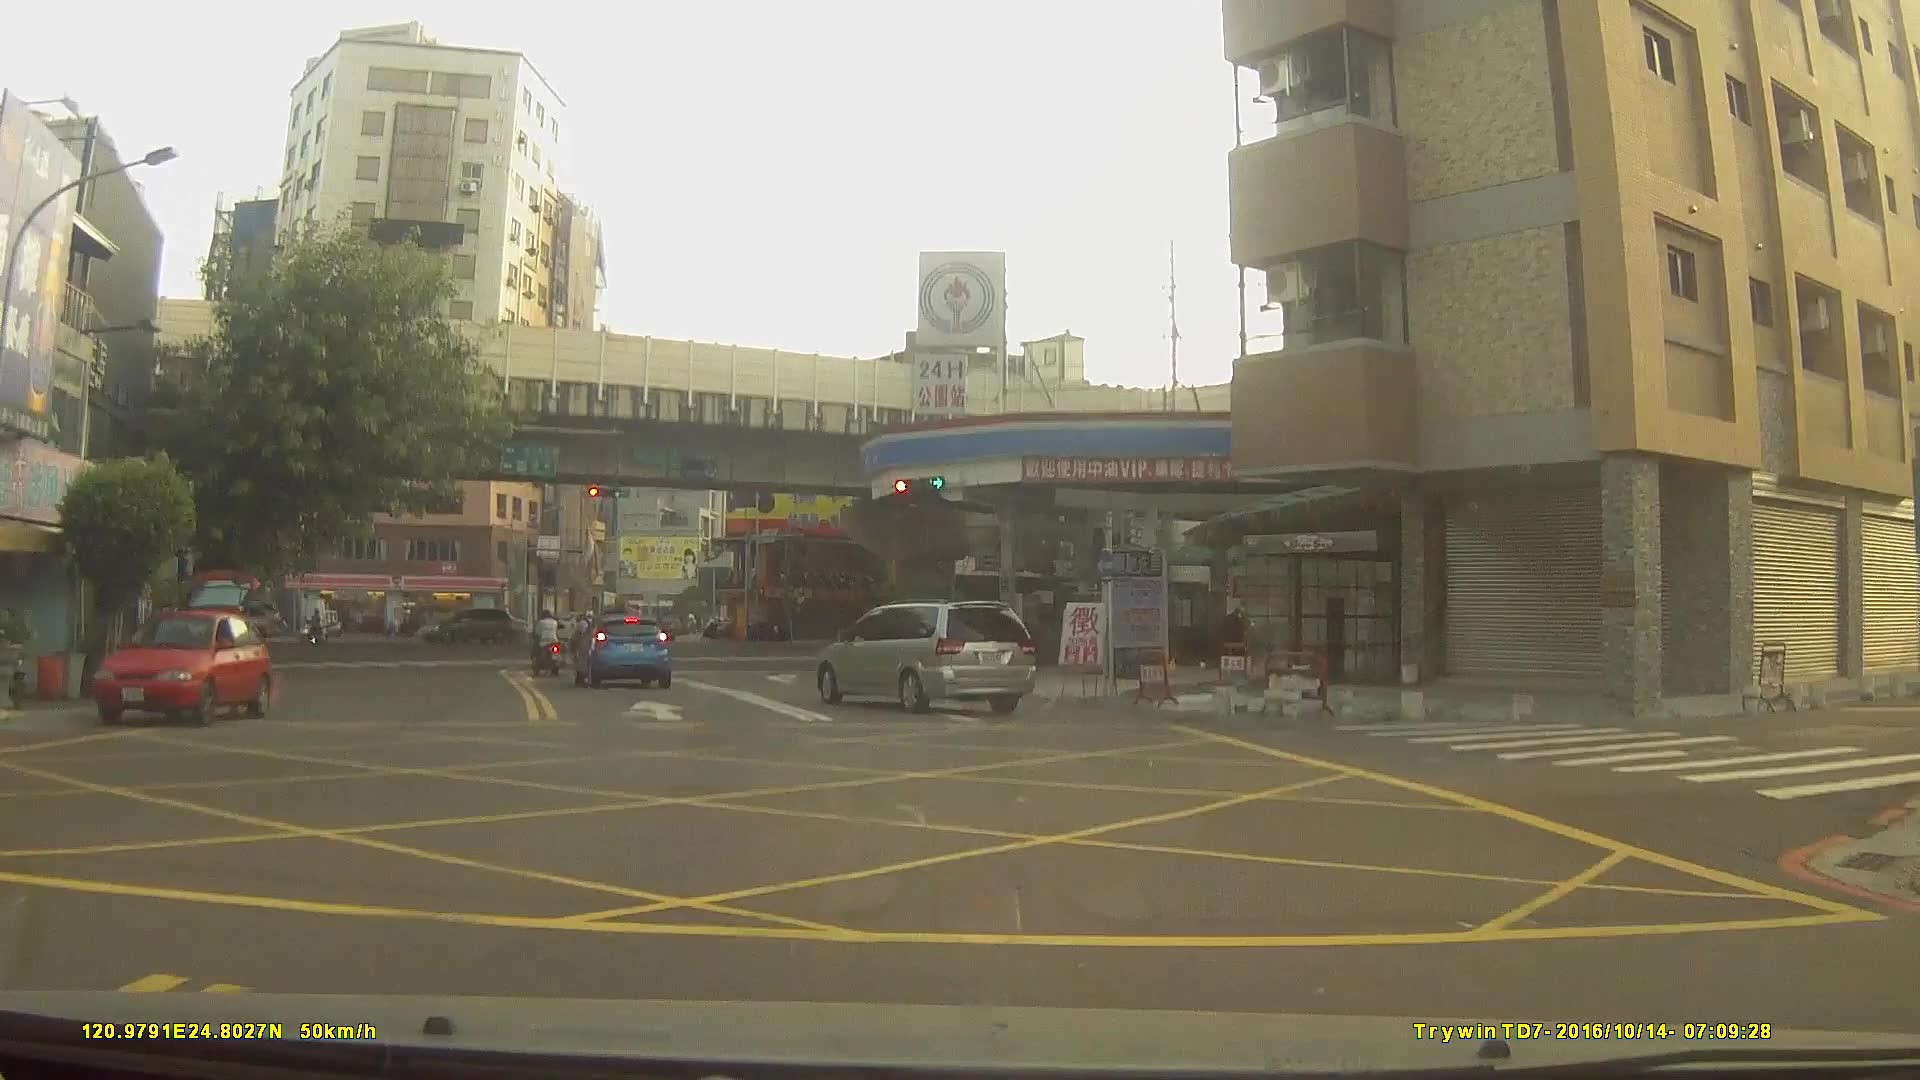rider: (529, 616, 564, 680), (299, 609, 331, 648)
vehicle: (818, 599, 1037, 712), (91, 606, 274, 725), (568, 617, 670, 692), (416, 610, 516, 648), (536, 604, 615, 640)
